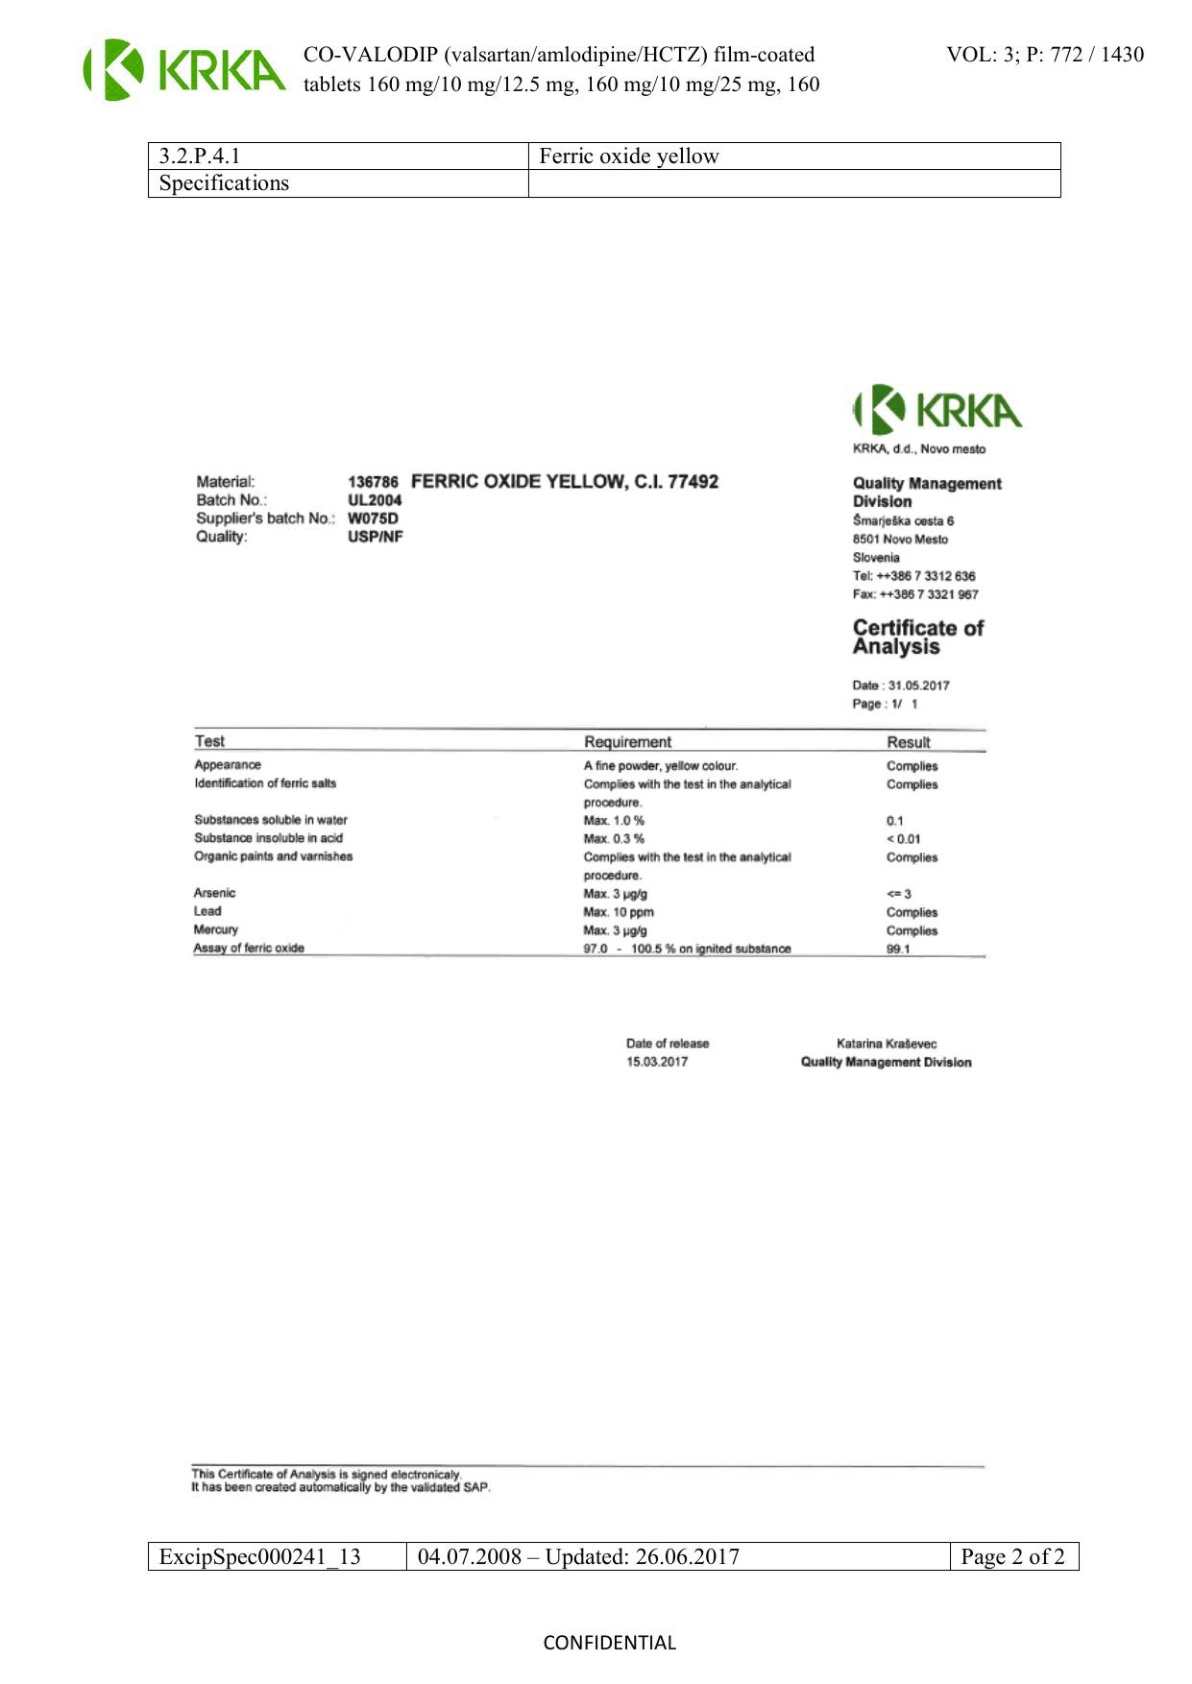full_lined: (146, 141, 1062, 199), (147, 1540, 1082, 1572)
nolines: (192, 469, 721, 547)
partial_lined: (192, 727, 987, 959)
